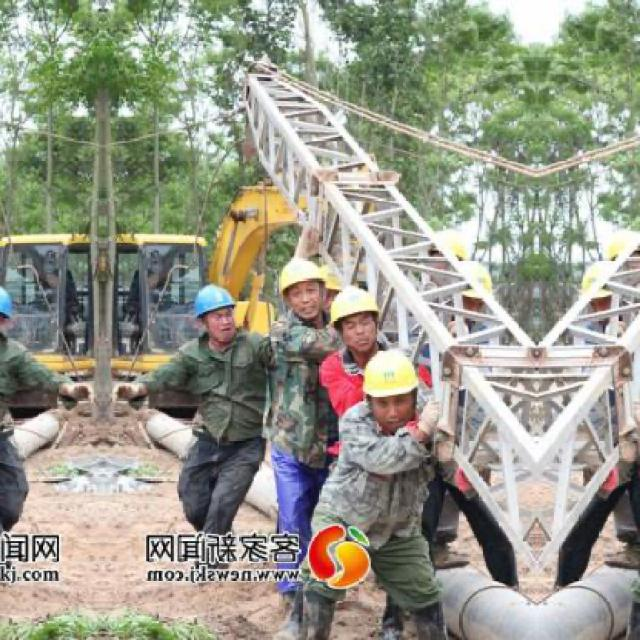con casco: (261, 235, 372, 352), (342, 332, 456, 424), (181, 270, 280, 348), (329, 281, 387, 346)
